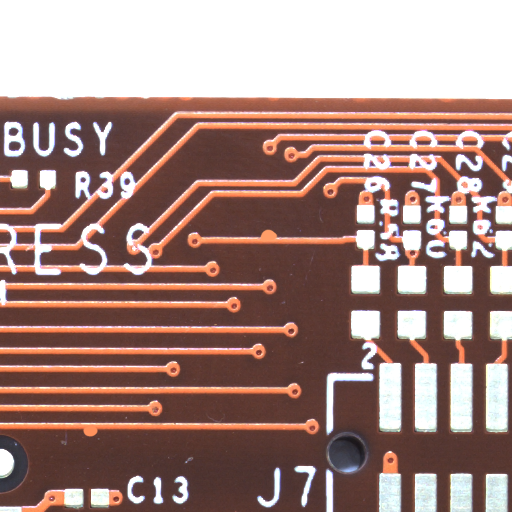Spur: (268, 233, 287, 244), (90, 432, 107, 443)
